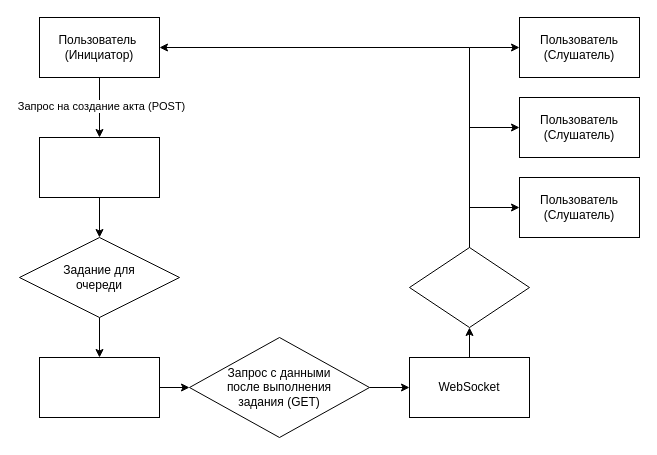
Image size: 657x455. Some labels were removed from this diagram. Here are the shapes that lost their labels. From the top down, the centre of each, then its label:
(99,167): Сервер
(469,287): Уведомление
(99,387): Очередь
